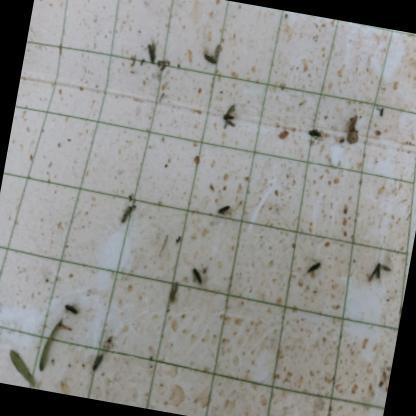prays_oleae: (216, 94, 240, 132), (86, 338, 110, 374), (368, 258, 394, 287), (198, 45, 223, 75), (140, 36, 160, 72), (59, 290, 83, 319), (303, 119, 325, 146), (216, 196, 234, 224)
